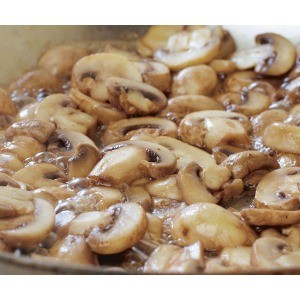mushroom_brain food: (32, 79, 282, 206)
